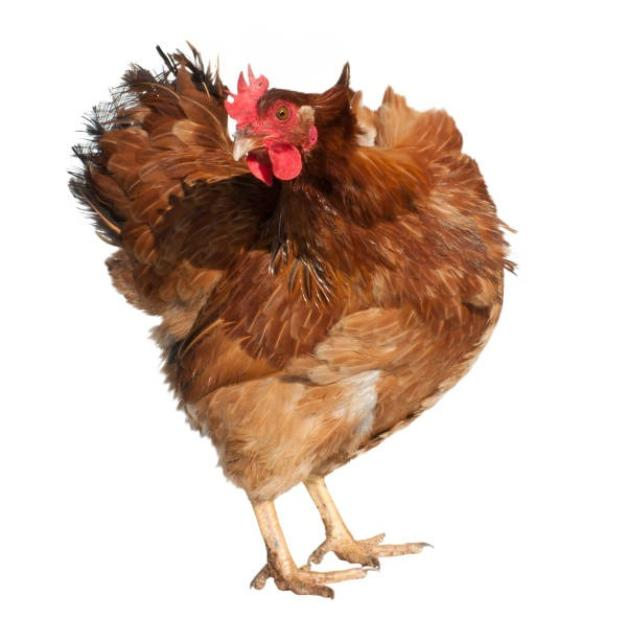Chicken: (67, 39, 517, 594)
